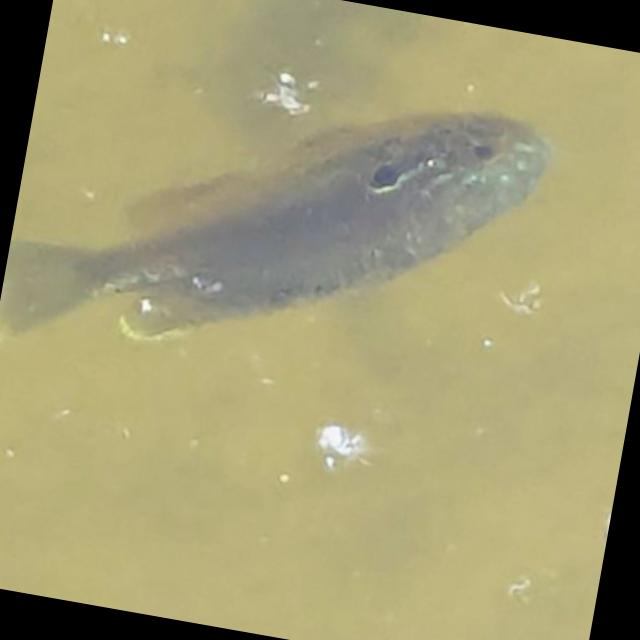Gunes Levregi: (0, 24, 558, 433)
